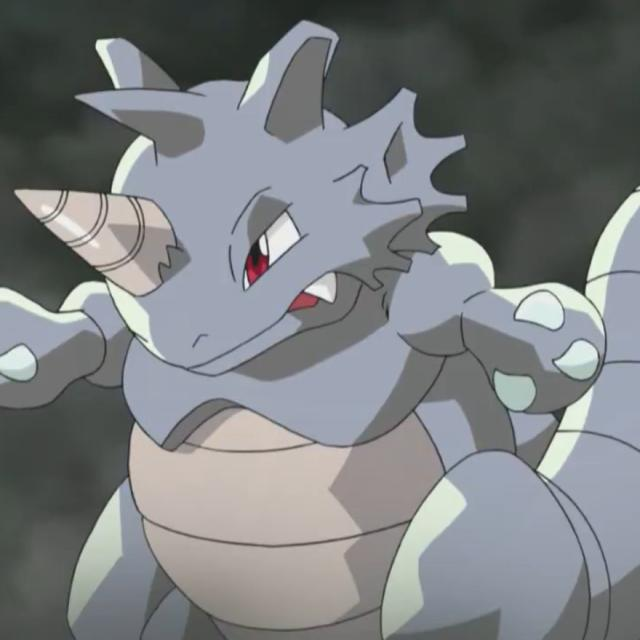Rhydon: (17, 31, 597, 627)
